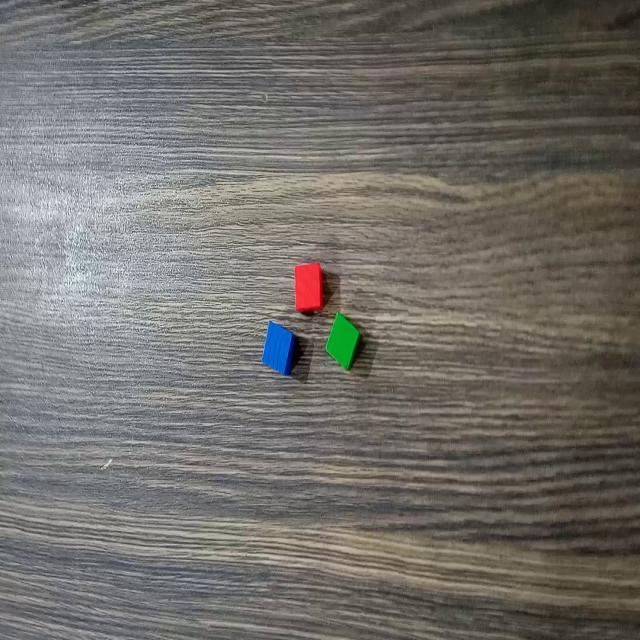cube: (324, 308, 363, 375), (260, 316, 296, 380), (292, 260, 324, 314)
